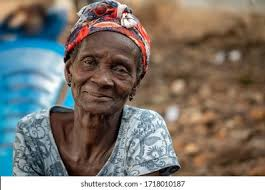person: (62, 1, 148, 115)
